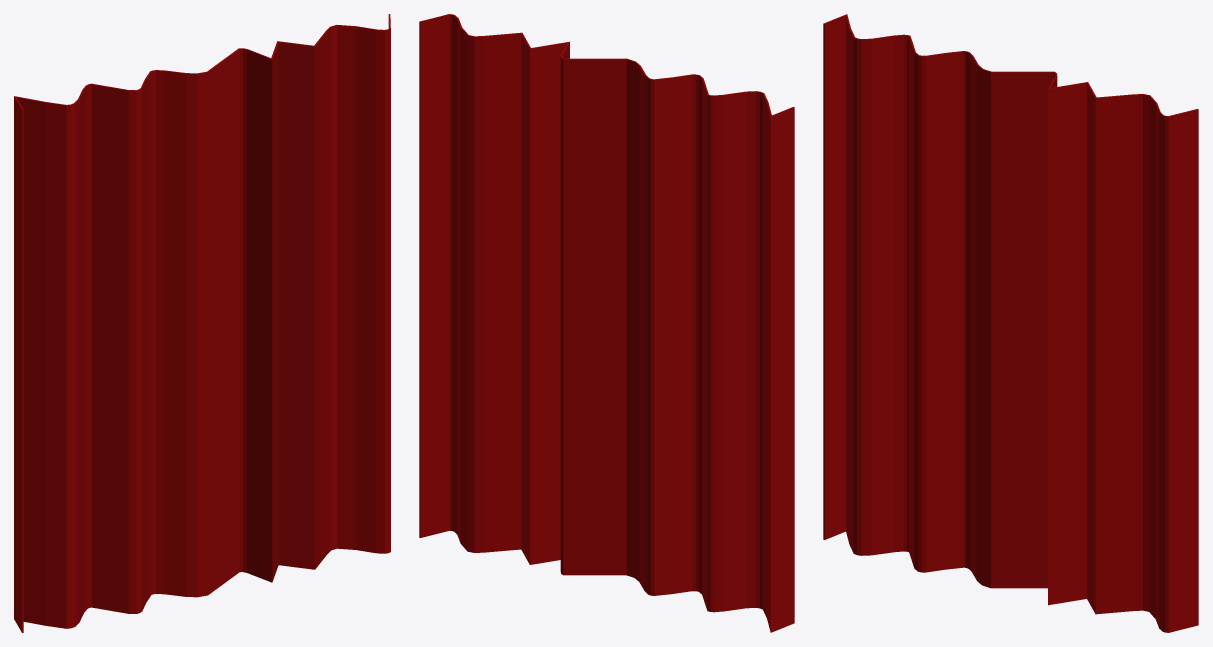
The model's file is Curtain.fbx.
3 views of the same model, side by side, from view 1: azimuth 30°, elevation 25°; view 2: azimuth 150°, elevation 25°; view 3: azimuth 330°, elevation 25° (orthographic).
Visible parts, largest first — view 1: nurbsToPoly1; view 2: nurbsToPoly1; view 3: nurbsToPoly1.
Part boxes in pixels (bbox=[...]): nurbsToPoly1: bbox=[14, 14, 390, 632]; nurbsToPoly1: bbox=[419, 14, 794, 632]; nurbsToPoly1: bbox=[823, 14, 1198, 632].
Bounding box in the file's own units: 26.13 × 34.9 × 3.3.
